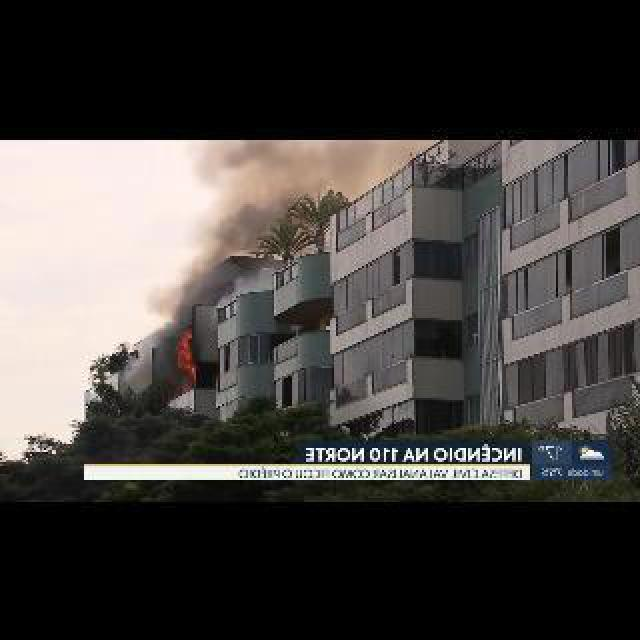Fire: (176, 328, 198, 384)
Smoke: (186, 138, 334, 248), (138, 250, 228, 326)
